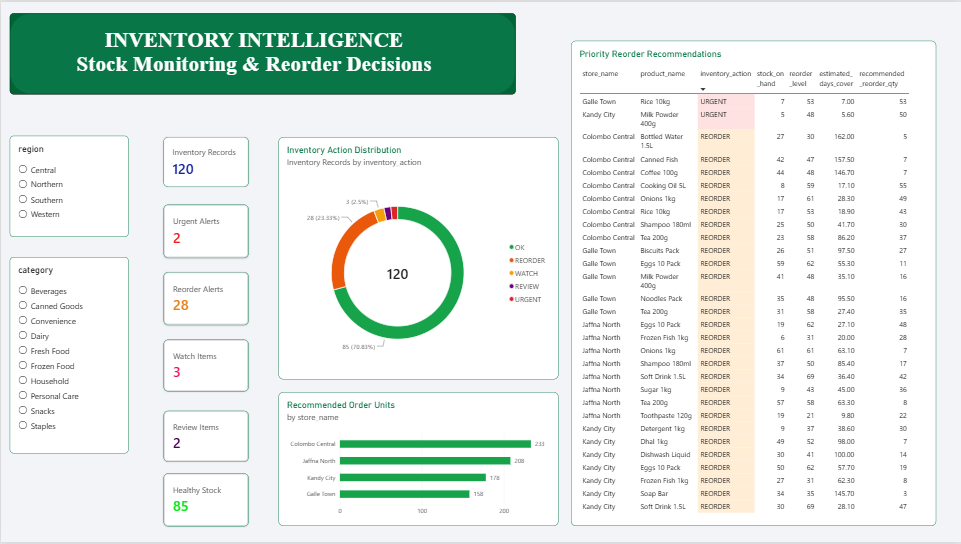

Layout of this report page (visuals, bound fields, positions):
{"tool":"powerbi","page":{"name":"Inventory Intelligence","canvas":[1920,1080],"ordinal":1},"visuals":[{"type":"cardVisual","fields":{"Data":["_Measures.Inventory Records"]},"box":[326,270,170,100],"z":0},{"type":"cardVisual","fields":{"Data":["_Measures.Urgent Alerts"]},"box":[326,404,170,107.5],"z":1000},{"type":"cardVisual","fields":{"Data":["_Measures.Reorder Alerts"]},"box":[326,540,170,106],"z":2000},{"type":"cardVisual","fields":{"Data":["_Measures.Review Items"]},"box":[326,818,170,102],"z":3000},{"type":"cardVisual","fields":{"Data":["_Measures.Watch Items"]},"box":[326,676,170,104],"z":4000},{"type":"cardVisual","fields":{"Data":["_Measures.Healthy Stock"]},"box":[326,942,170,106],"z":5000},{"type":"donutChart","title":"Inventory Action Distribution","fields":{"Category":["Inventory.inventory_action"],"Y":["_Measures.Inventory Records"]},"box":[554,270,560,485],"z":6000},{"type":"clusteredBarChart","fields":{"Category":["Inventory.store_name"],"Y":["_Measures.Recommended Order Units"]},"box":[554,780,560,268],"z":7000},{"type":"tableEx","title":"Priority Reorder Recommendations","fields":{"Values":["Inventory.store_name","Inventory.product_name","Inventory.inventory_action","Inventory.stock_on_hand","Inventory.reorder_level","Inventory.estimated_days_cover","Inventory.recommended_reorder_qty"]},"box":[1140,78,730,970],"z":8000},{"type":"textbox","box":[0,0,445,250],"z":9000},{"type":"listSlicer","fields":{"Values":["Inventory.region"]},"box":[18,268,237.5,202.5],"z":10000},{"type":"listSlicer","fields":{"Values":["Inventory.category"]},"box":[18,510,237.5,392.5],"z":11000},{"type":"shape","box":[18,22,1012,162],"z":12000},{"type":"textbox","box":[0,50,1012,150],"z":13000}]}

Visuals, with their boxes in screenshot pixels (x1, y1, x2, y2), scaled from the page's 1920x1080 canvas onto the 961x544 screenshot:
cardVisual - _Measures.Inventory Records: detection(163, 136, 248, 186)
cardVisual - _Measures.Urgent Alerts: detection(163, 203, 248, 258)
cardVisual - _Measures.Reorder Alerts: detection(163, 272, 248, 325)
cardVisual - _Measures.Review Items: detection(163, 412, 248, 463)
cardVisual - _Measures.Watch Items: detection(163, 341, 248, 393)
cardVisual - _Measures.Healthy Stock: detection(163, 474, 248, 528)
"Inventory Action Distribution" donutChart: detection(277, 136, 558, 380)
clusteredBarChart - Inventory.store_name x _Measures.Recommended Order Units: detection(277, 393, 558, 528)
"Priority Reorder Recommendations" tableEx: detection(571, 39, 936, 528)
textbox: detection(0, 0, 223, 126)
listSlicer - Inventory.region: detection(9, 135, 128, 237)
listSlicer - Inventory.category: detection(9, 257, 128, 455)
shape: detection(9, 11, 516, 93)
textbox: detection(0, 25, 507, 101)
